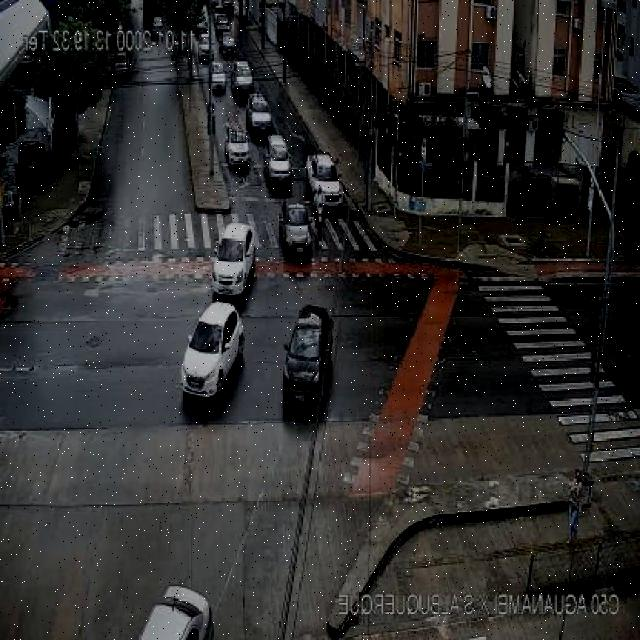Car: (268, 303, 353, 427), (167, 301, 249, 416), (136, 576, 228, 640), (205, 223, 258, 298), (276, 201, 318, 261), (308, 146, 346, 212), (214, 121, 255, 174), (262, 133, 298, 186), (238, 93, 282, 135), (204, 53, 236, 98), (231, 60, 261, 94)
Cycle: (310, 183, 332, 229)
